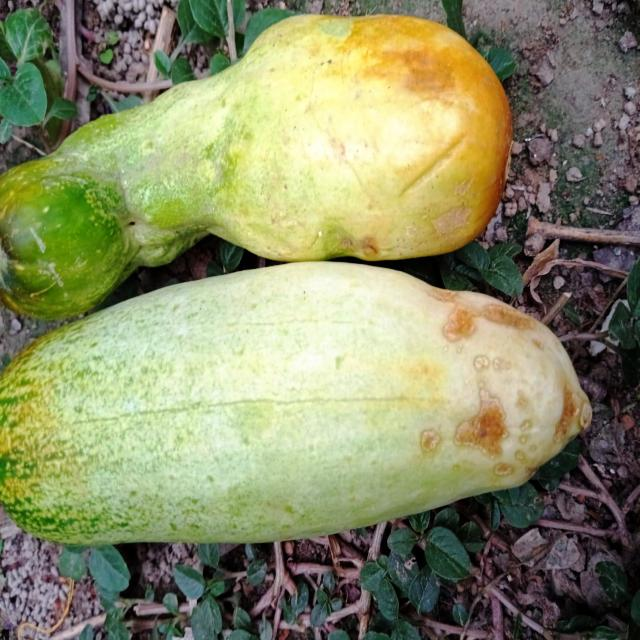Belly-Rot: (411, 277, 583, 496), (326, 224, 391, 263), (426, 200, 480, 243)
